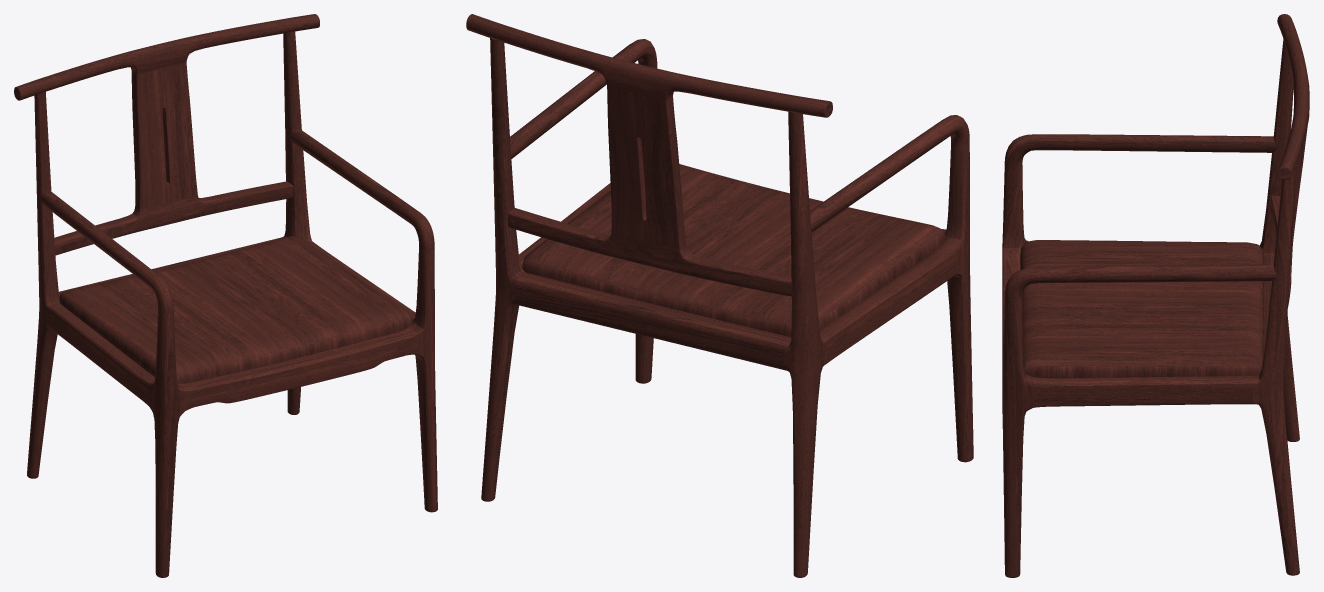
The picture shows the model from 3 angles, left to right: view 1: azimuth 30°, elevation 25°; view 2: azimuth 150°, elevation 25°; view 3: azimuth 270°, elevation 25°; orthographic projection. The views are drawn at different scales.
Parts seen in each view (by area): view 1: SY-椅子1; view 2: SY-椅子1; view 3: SY-椅子1.
Part boxes in pixels (x1=…): SY-椅子1: x1=14, y1=14, x2=437, y2=577; SY-椅子1: x1=466, y1=14, x2=973, y2=577; SY-椅子1: x1=1002, y1=14, x2=1309, y2=577.
Bounding box in the file's own units: 0.7135 × 0.6043 × 0.9028.
